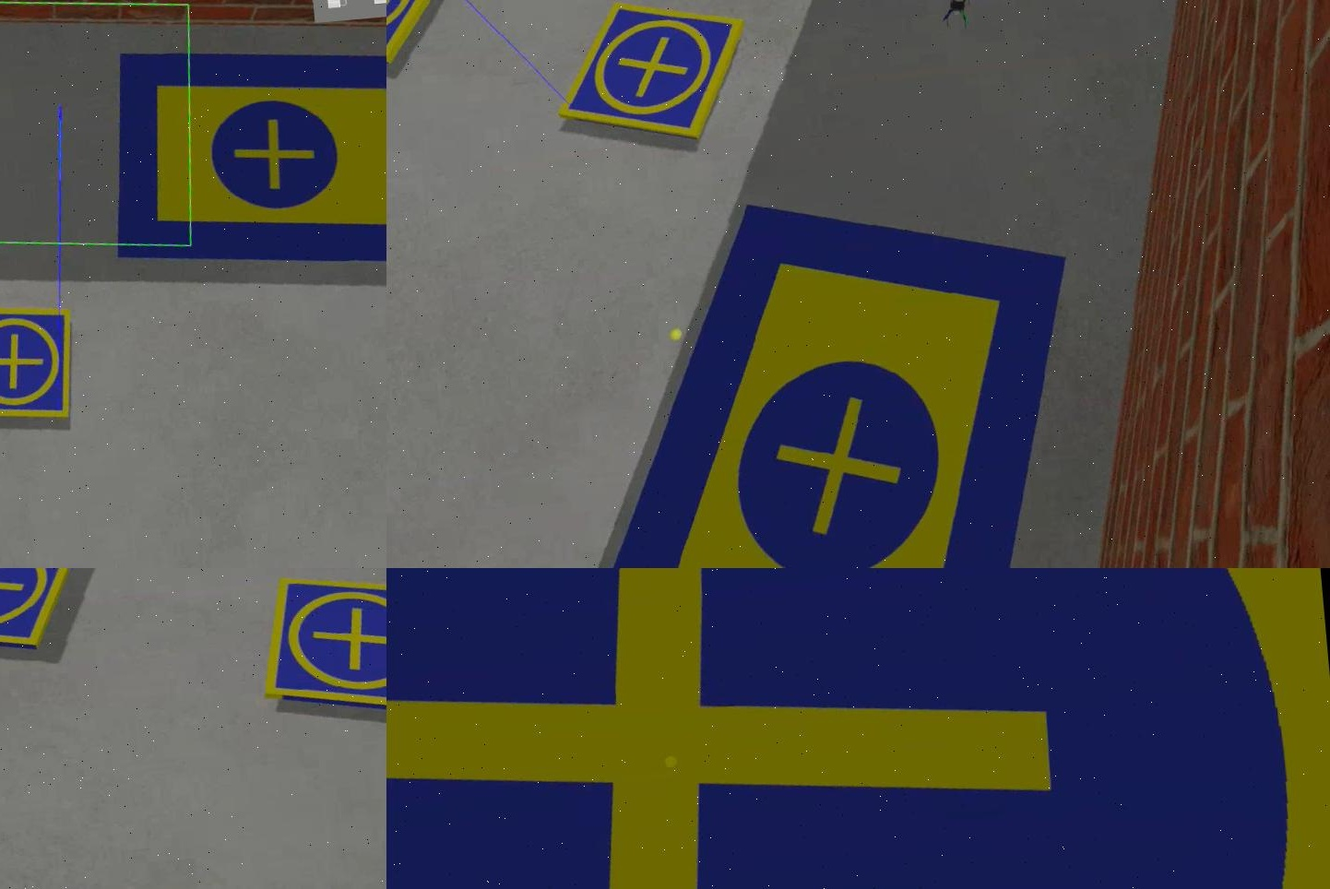large_base: (385, 568, 1328, 889), (517, 176, 1110, 568), (95, 25, 385, 293)
small_base: (552, 1, 751, 151), (250, 568, 385, 735), (0, 297, 82, 433), (0, 568, 86, 659), (385, 1, 457, 71)
